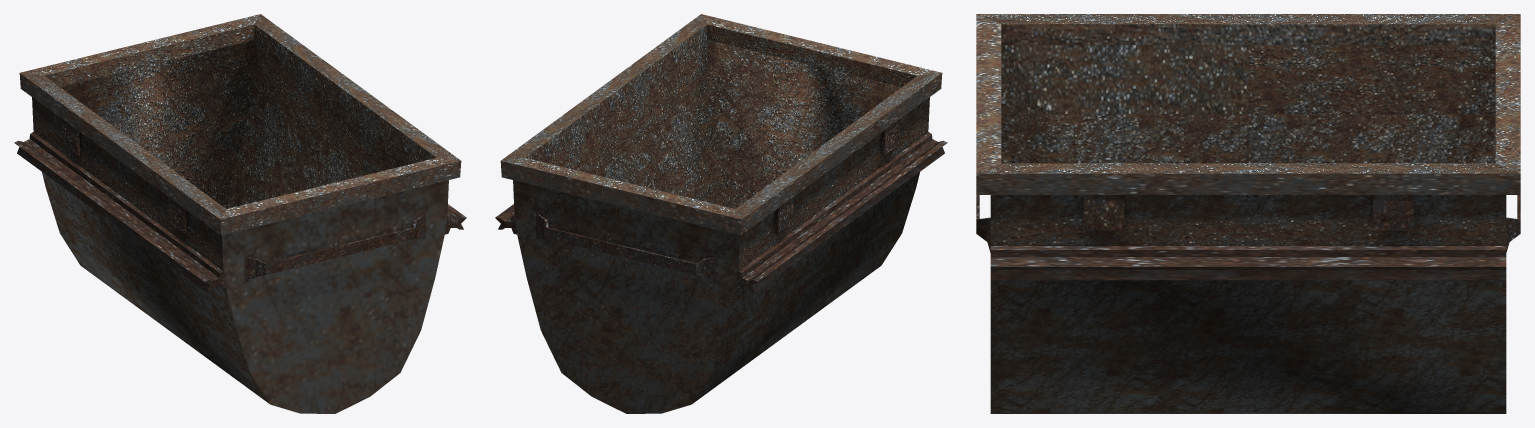
Rendered from cart_iron.dae.
The picture shows the model from 3 angles, left to right: view 1: azimuth 30°, elevation 25°; view 2: azimuth 150°, elevation 25°; view 3: azimuth 270°, elevation 25°; orthographic projection. The views are drawn at different scales.
Visible parts, largest first — view 1: Body_001; view 2: Body_001; view 3: Body_001.
Part boxes in pixels (bbox=[...]): Body_001: bbox=[14, 14, 466, 413]; Body_001: bbox=[495, 14, 947, 413]; Body_001: bbox=[976, 14, 1520, 413].
Bounding box in the file's own units: 2.92 × 3.86 × 2.42.
Materials: 1 (1 with a texture image).
